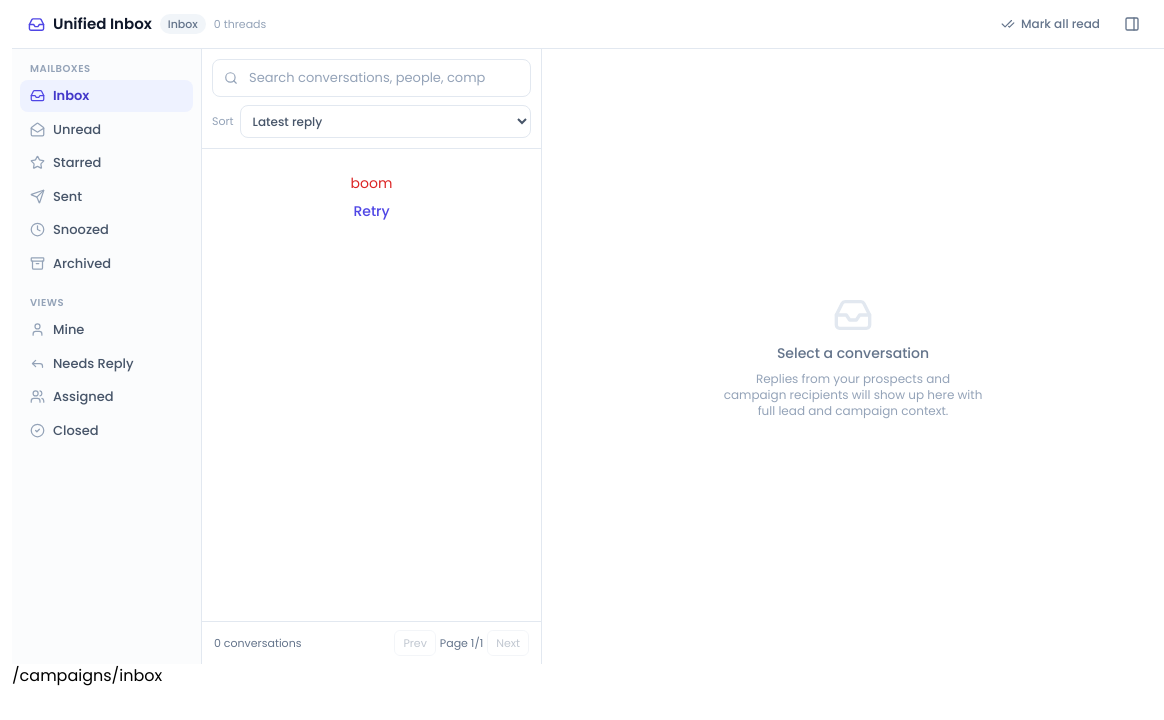
Test case: InboxPage — mailbox layout › shows list errors with retry
Expected: the text "boom" is shown, [351,172,392,192]
Click the button "Retry". click: (372,210)
box: [353,200,390,220]
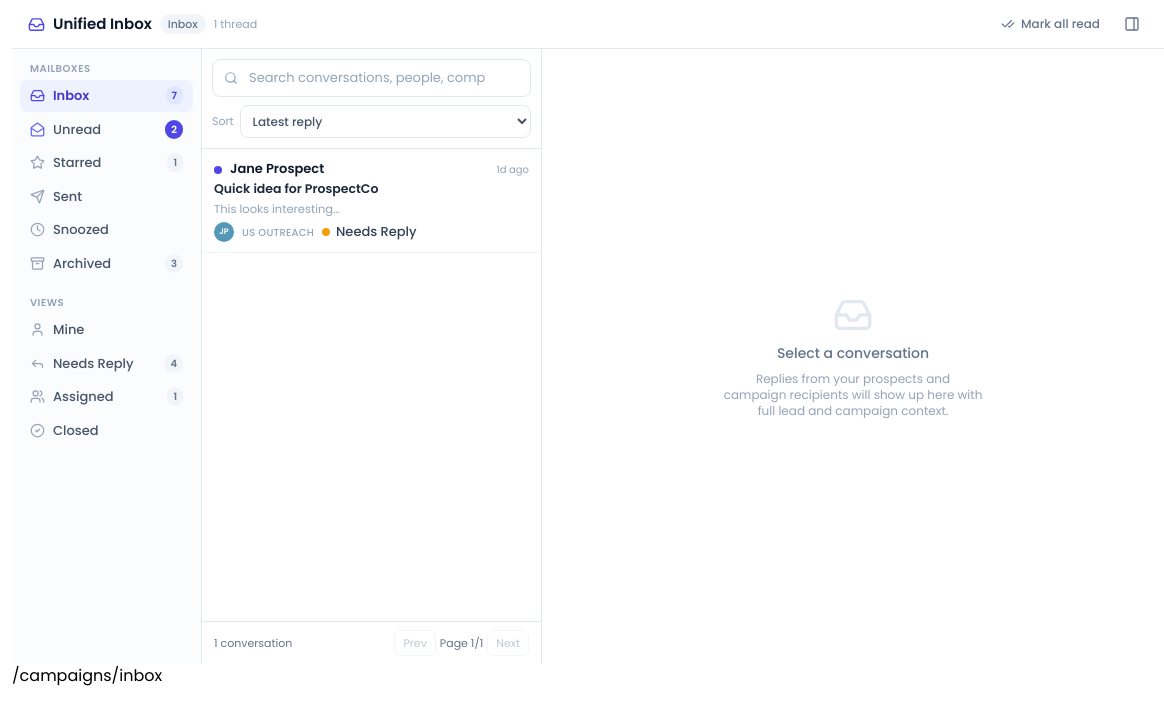
Result: the text "Quick idea for ProspectCo" is shown at [214,180,378,197]
